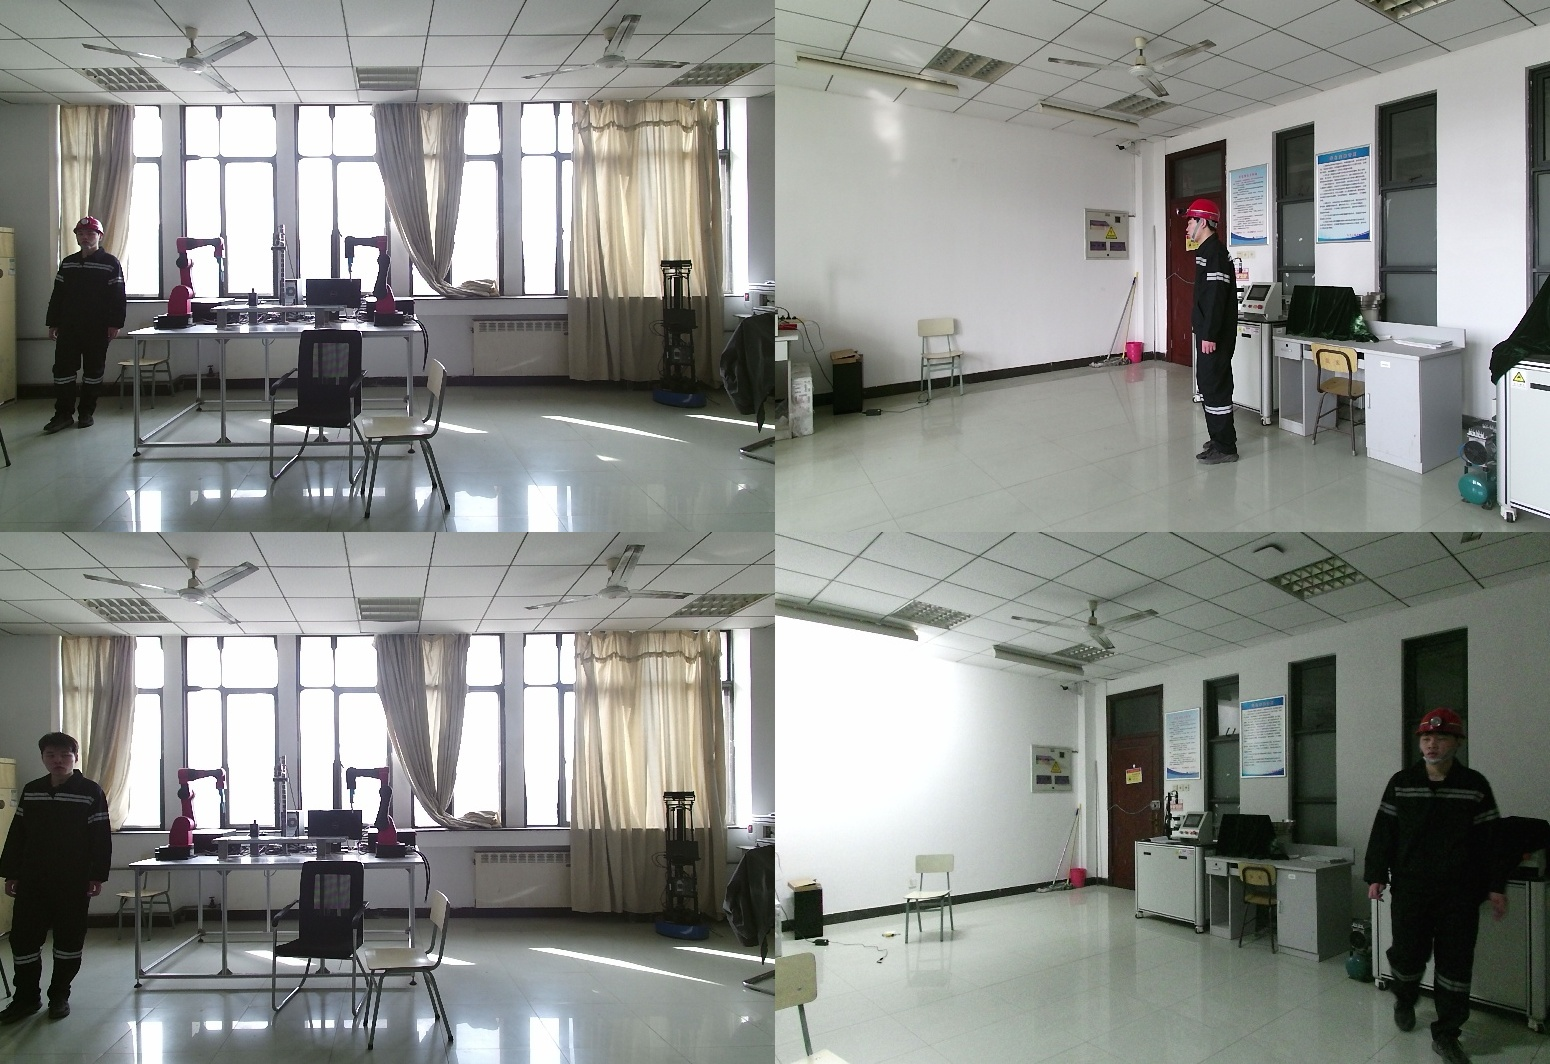person: (1371, 709, 1515, 1064), (3, 732, 118, 1019), (40, 215, 127, 433), (1187, 202, 1248, 461)
